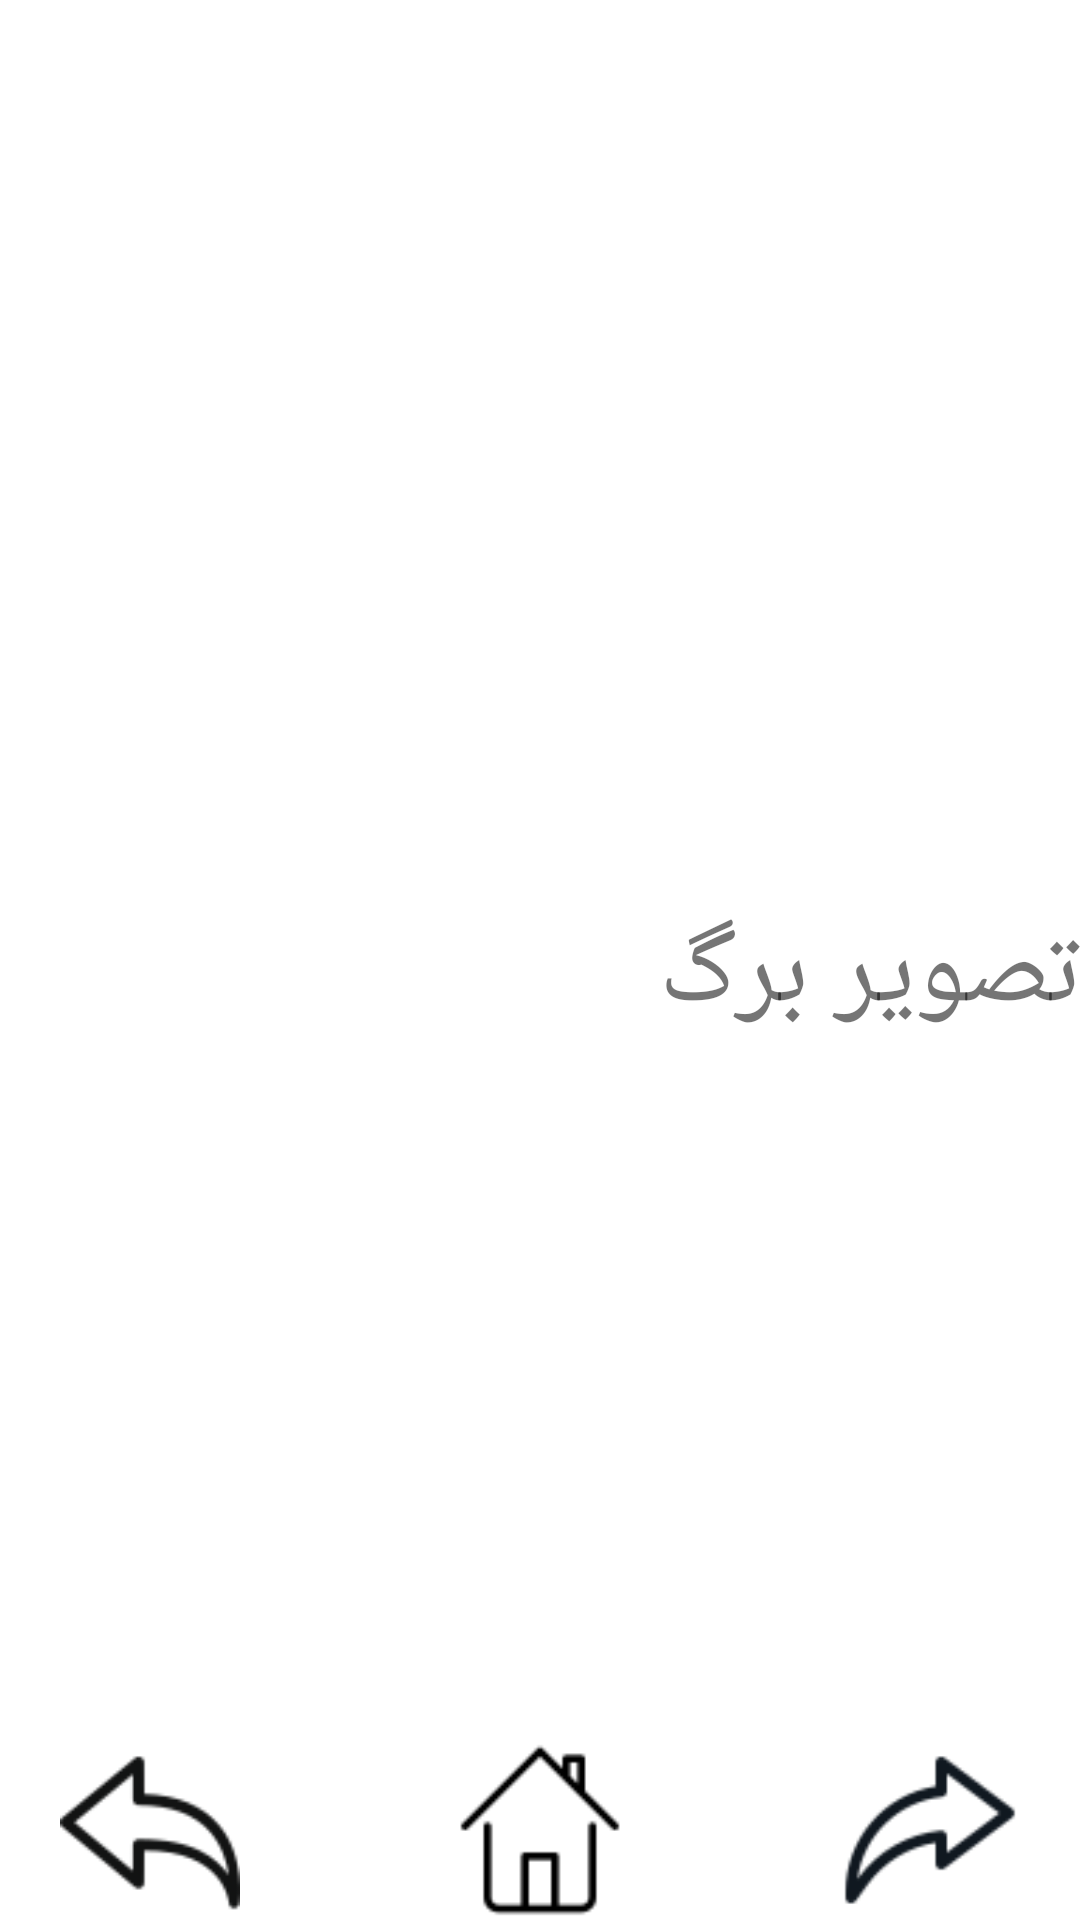

Icon bounding boxes for this 1080px x 1920px phone screenshot, format (x1=x1, y1=y1, x2=x2, y2=y2):
home: (x1=460, y1=1746, x2=620, y2=1915)
nexticon: (x1=845, y1=1756, x2=1015, y2=1904)
previousicon: (x1=60, y1=1756, x2=240, y2=1910)
